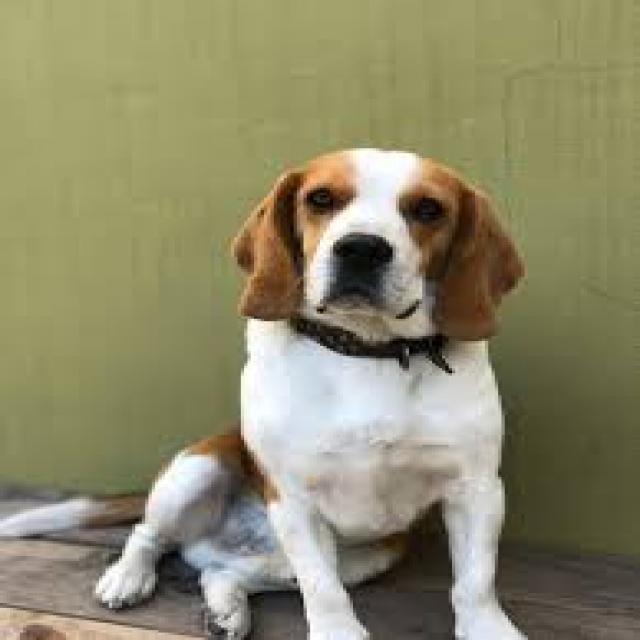Dog: (0, 143, 538, 640)
